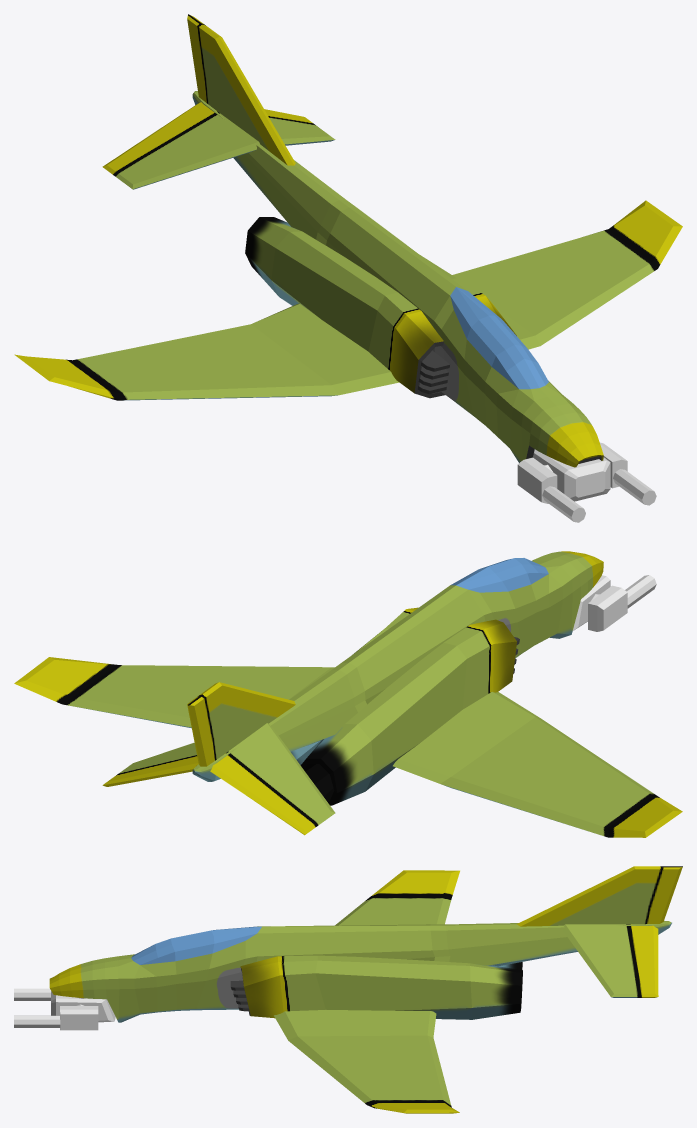
Rendered from Spectre.fbx.
3 views of the same model, one above another, from view 1: azimuth 30°, elevation 25°; view 2: azimuth 150°, elevation 25°; view 3: azimuth 270°, elevation 25° (orthographic). The views are drawn at different scales.
Visible parts, largest first — view 1: Airframe, Guns, Gun mount; view 2: Airframe, Guns, Gun mount; view 3: Airframe, Guns, Gun mount.
Boxes of the visible parts, <box> form: Airframe: <box>14,14,682,467</box>; Guns: <box>517,442,656,522</box>; Gun mount: <box>533,449,610,501</box>; Airframe: <box>14,551,682,837</box>; Guns: <box>588,575,656,631</box>; Gun mount: <box>572,575,610,630</box>; Airframe: <box>49,866,682,1113</box>; Guns: <box>14,988,98,1030</box>; Gun mount: <box>51,991,115,1022</box>.
Size of the model in its own units: 802 by 233 by 934.
Materials: 1 (1 with a texture image).
